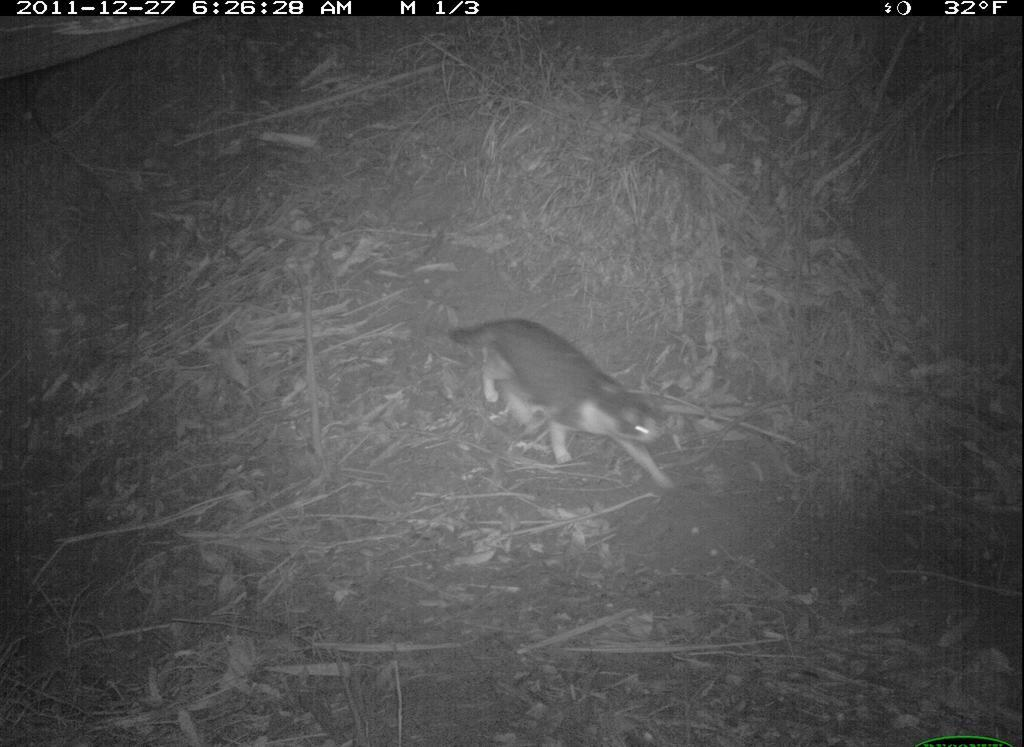cat: (446, 300, 685, 497)
